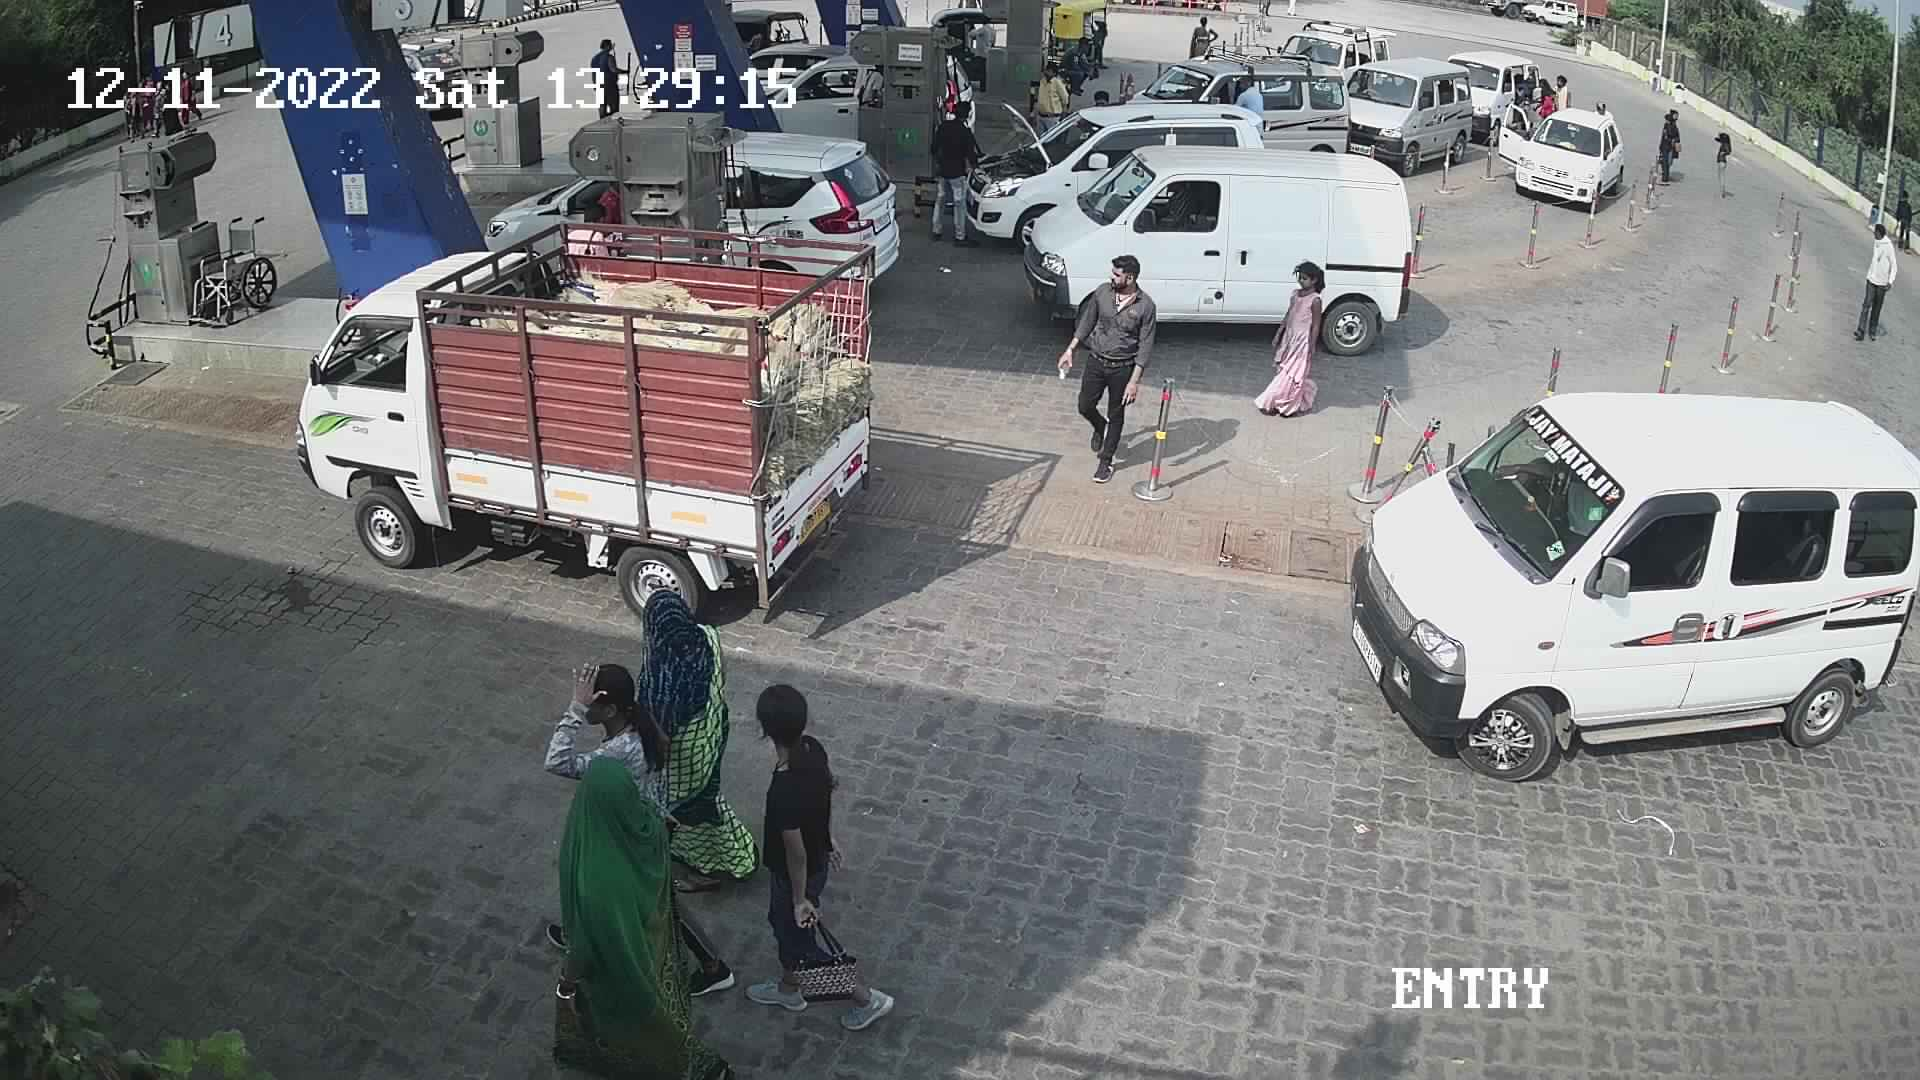Auto: (920, 1, 1009, 94), (1044, 0, 1110, 95), (724, 1, 818, 67)
Car: (287, 214, 884, 632), (1342, 376, 1920, 802), (1015, 140, 1428, 348), (957, 95, 1273, 258), (709, 123, 909, 306), (1113, 38, 1358, 161), (1325, 45, 1501, 179), (1490, 82, 1633, 227), (736, 34, 869, 144), (1440, 36, 1544, 145), (1275, 11, 1400, 95), (1514, 0, 1589, 38)
